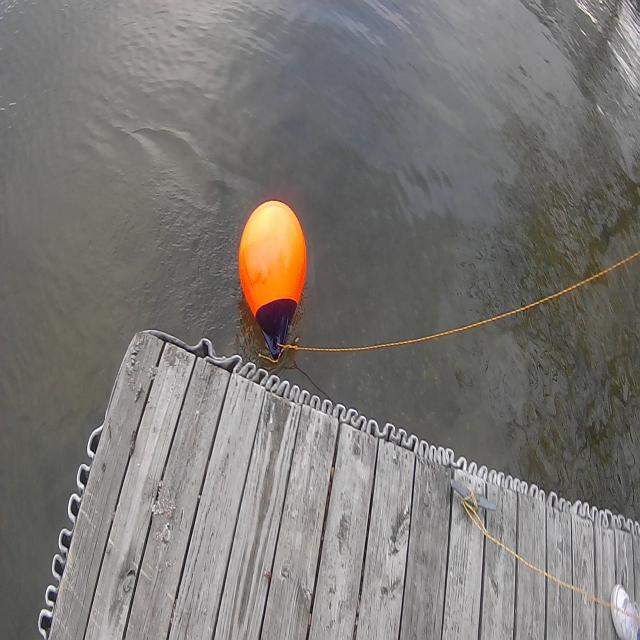Buoy: (234, 192, 320, 362)
